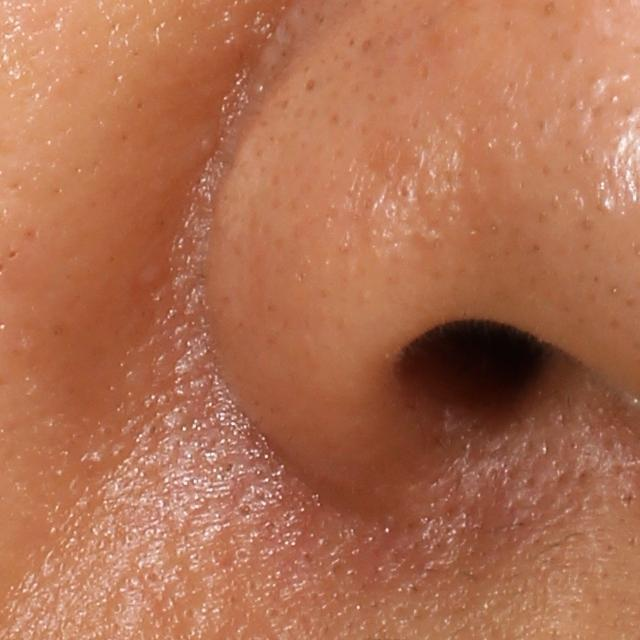comedo: (230, 542, 257, 570), (141, 566, 167, 587), (178, 600, 201, 620), (105, 599, 126, 619)
